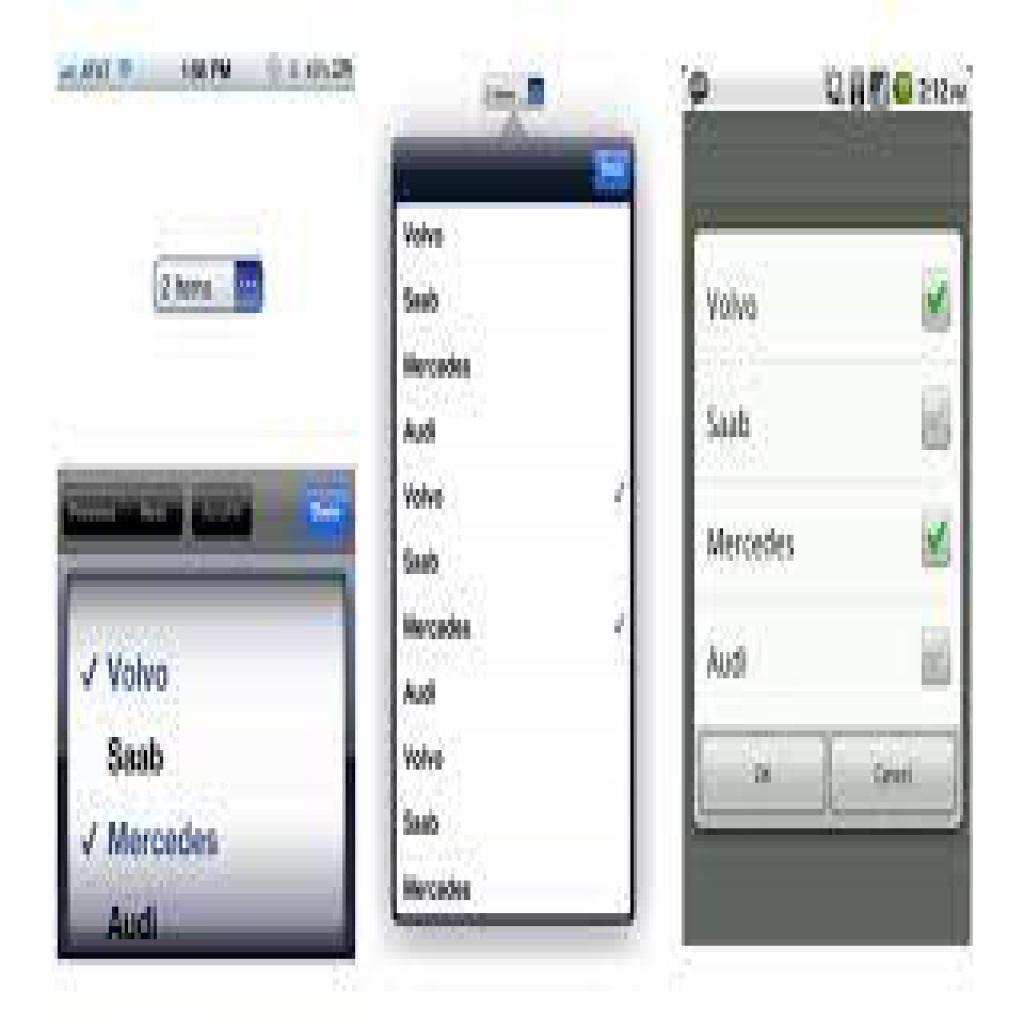button: (829, 732, 959, 814), (699, 732, 826, 813), (65, 485, 181, 537), (191, 485, 253, 540), (302, 487, 351, 539), (591, 150, 631, 194)
checkbox: (922, 268, 954, 334), (920, 505, 952, 571), (923, 384, 953, 452), (923, 627, 953, 686)
dropdown: (154, 257, 262, 311)
label: (705, 522, 806, 570), (700, 282, 766, 331), (700, 400, 756, 447), (705, 641, 754, 689)
